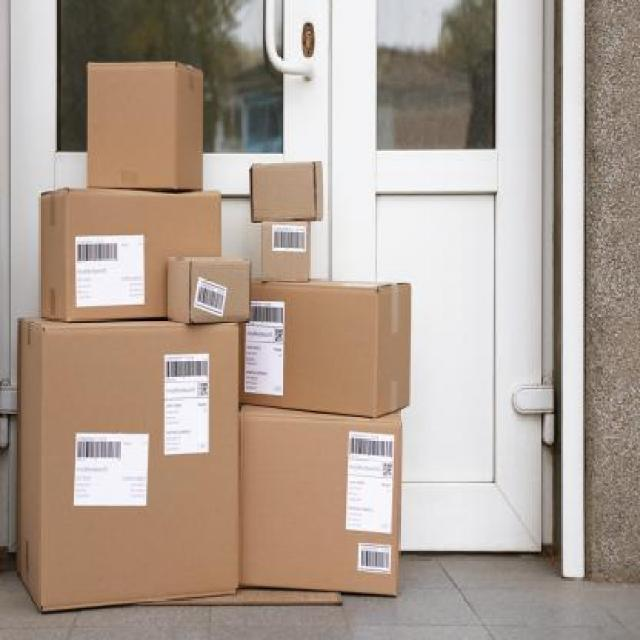box: (15, 311, 239, 609), (235, 400, 404, 596), (232, 281, 408, 415), (42, 186, 218, 316), (83, 60, 201, 196), (167, 250, 249, 323), (247, 161, 324, 219), (261, 221, 304, 281)
